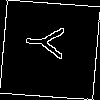Y: (25, 24, 74, 61)
